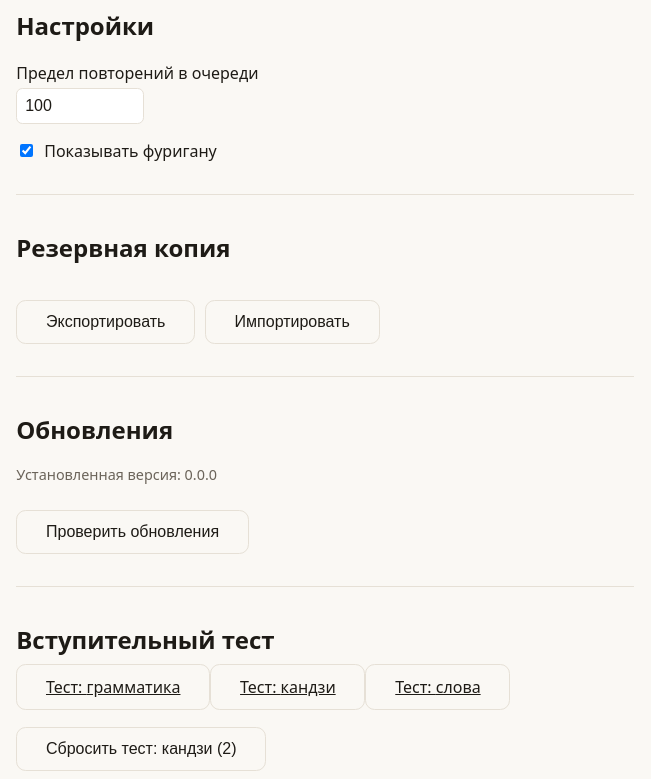
Scenario: SettingsScreen › resetting a type deletes its marked cards and clears its id list
This screenshot has width=651, height=779.
Click the button "Сбросить тест: кандзи (2)" at (141, 749), box [16, 727, 266, 771]
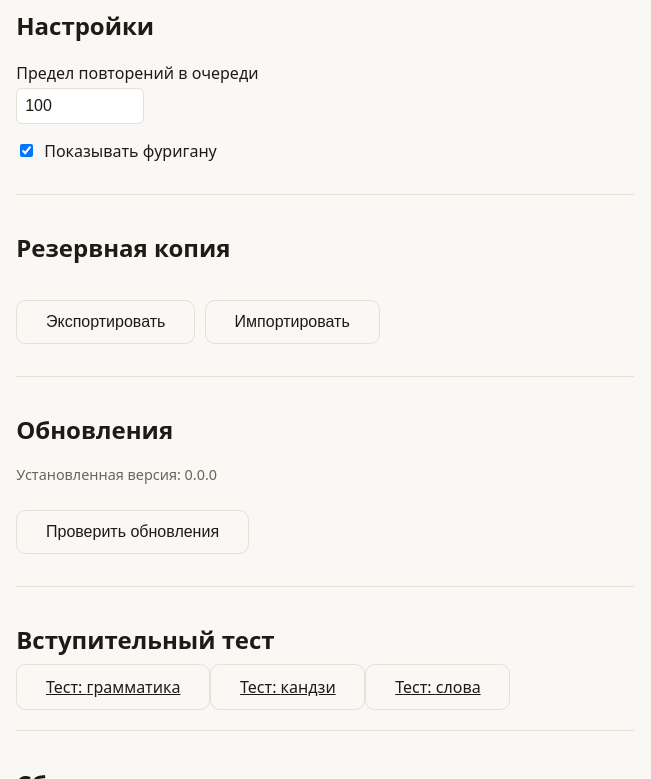
Expected: the button "Сбросить тест: кандзи" is gone
